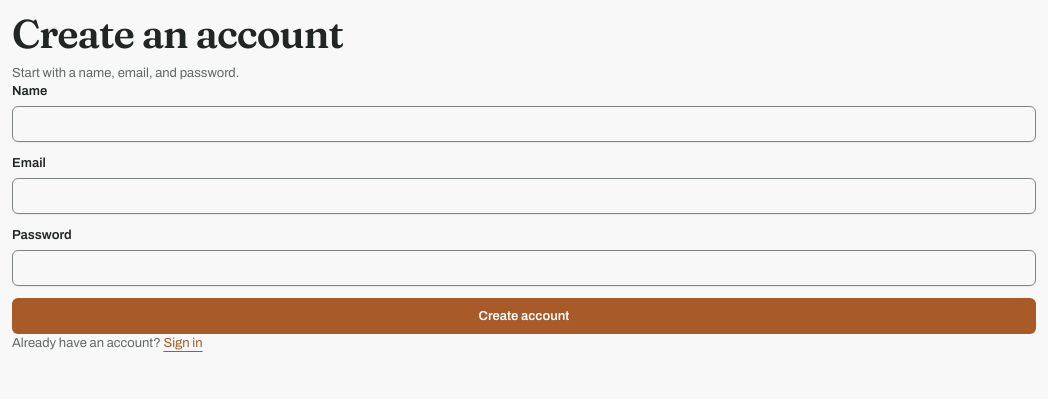
Test case: RegisterView › reports a refused sign-up without navigating away
Type "Ayşe" into the field labelled "Name" at (524, 124), box [12,106,1036,142]
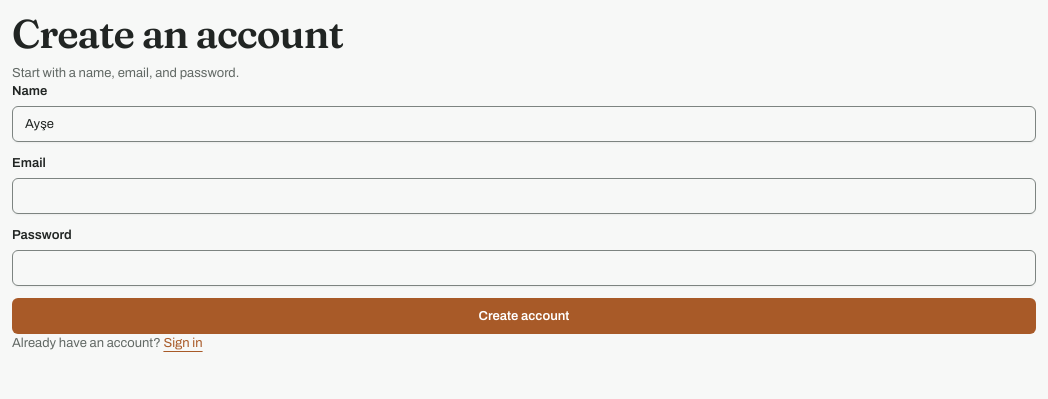
Type "ayse@example.com" into the field labelled "Email" at (524, 196), box [12,178,1036,214]
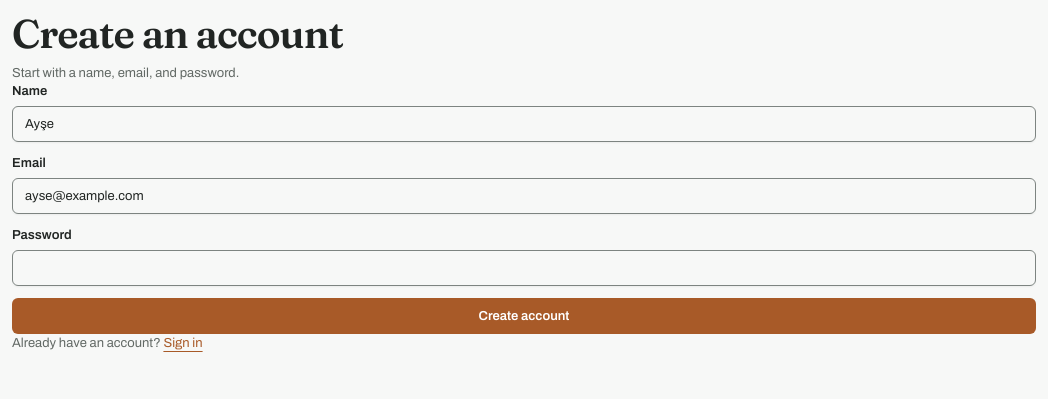
Type "correct-horse" into the password field labelled "Password" at (524, 268), box [12,250,1036,286]
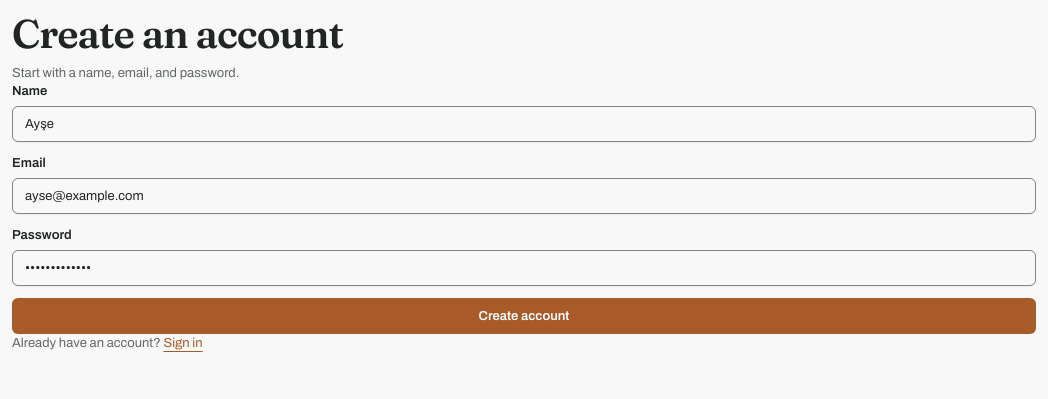
Click the button "Create account" at (524, 316), box [12,298,1036,334]
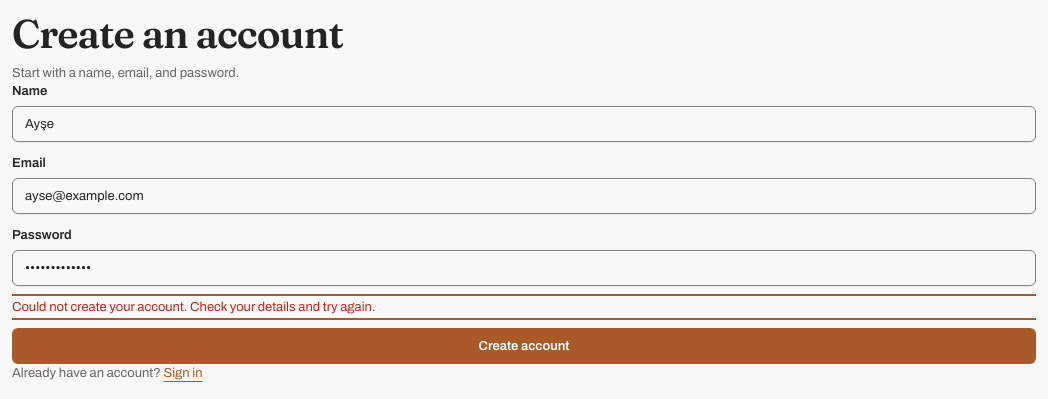
Now the text "Could not create your account. Check your details and try again." is shown, box [12,300,376,314]
